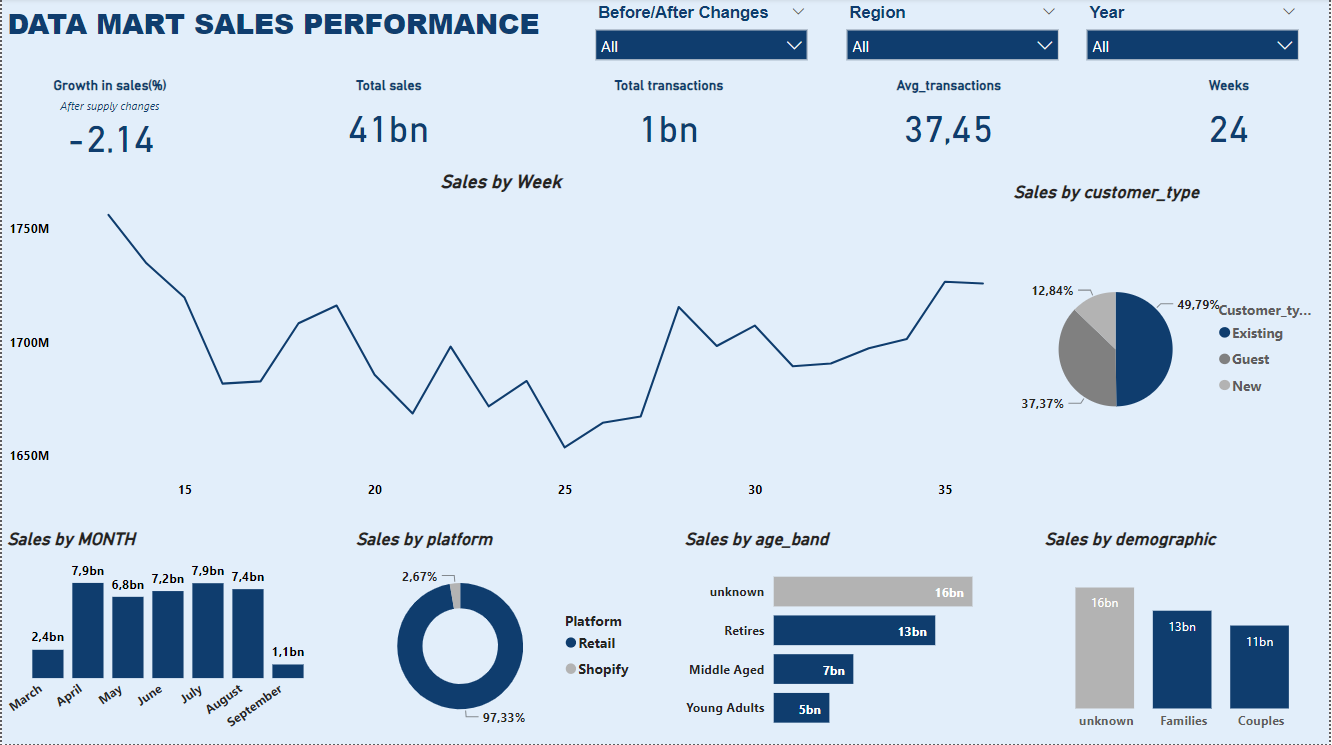

Layout of this report page (visuals, bound fields, positions):
{"tool":"powerbi","page":{"name":"Page 1","canvas":[1280,720],"ordinal":0},"visuals":[{"type":"textbox","box":[0,0,562,54.3],"z":0},{"type":"slicer","fields":{"Values":["whole_dataset.calendar_year"]},"box":[1036,0,225,71.2],"z":1000},{"type":"lineChart","title":"Sales by Week ","fields":{"Y":["Sum(whole_dataset.sales)"],"Category":["CALENDAR.WEEK NUMBER"]},"box":[1.2,166.4,960,326.8],"z":3000},{"type":"clusteredColumnChart","title":"Sales by MONTH","fields":{"Category":["CALENDAR.MONTH"],"Y":["Sum(whole_dataset.sales)"]},"box":[0,511.4,312.4,208.6],"z":4000},{"type":"donutChart","title":"Sales by platform","fields":{"Y":["Sum(whole_dataset.sales)"],"Category":["whole_dataset.platform"]},"box":[336.5,511.4,289.4,208.6],"z":5000},{"type":"barChart","title":"Sales by age_band","fields":{"Category":["whole_dataset.age_band"],"Y":["Sum(whole_dataset.sales)"]},"box":[653.7,511.4,330.5,208.6],"z":6000},{"type":"pieChart","title":"Sales by customer_type","fields":{"Category":["whole_dataset.customer_type"],"Y":["Sum(whole_dataset.sales)"]},"box":[970.9,177.3,308.7,303.9],"z":7000},{"type":"clusteredColumnChart","title":"Sales by demographic","fields":{"Category":["whole_dataset.demographic"],"Y":["Sum(whole_dataset.sales)"]},"box":[1001,511.4,278.6,203.8],"z":8000},{"type":"slicer","fields":{"Values":["whole_dataset.region"]},"box":[803.8,0,225,71.2],"z":9000},{"type":"slicer","fields":{"Values":["whole_dataset.impact"]},"box":[562,0,225.5,71.2],"z":10000},{"type":"card","title":"Avg_transactions","fields":{"Values":["All measure.AVG_TRANSACTION"]},"box":[835.9,77.2,155.6,77.2],"z":13000},{"type":"card","title":"Total transactions","fields":{"Values":["Sum(whole_dataset.transactions)"]},"box":[565.9,77.2,155.6,77.2],"z":19000},{"type":"card","title":"Total sales","fields":{"Values":["Sum(whole_dataset.sales)"]},"box":[295.9,77.2,155.6,77.2],"z":21000},{"type":"card","title":"Weeks","fields":{"Values":["Count(whole_dataset.week_number)"]},"box":[1105.9,77.2,155.6,77.2],"z":22500},{"type":"card","title":"Growth in sales(%)","fields":{"Values":["whole_dataset.growth"]},"box":[26.5,77.2,155,77],"z":23000}]}

Visuals, with their boxes in screenshot pixels (x1, y1, x2, y2), scaled from the page's 1280x720 canvas onto the 1332x745 screenshot:
textbox: [0,0,585,56]
slicer - whole_dataset.calendar_year: [1078,0,1312,74]
"Sales by Week " lineChart: [1,172,1000,510]
"Sales by MONTH" clusteredColumnChart: [0,529,325,744]
"Sales by platform" donutChart: [350,529,651,744]
"Sales by age_band" barChart: [680,529,1024,744]
"Sales by customer_type" pieChart: [1010,183,1331,498]
"Sales by demographic" clusteredColumnChart: [1042,529,1331,740]
slicer - whole_dataset.region: [836,0,1071,74]
slicer - whole_dataset.impact: [585,0,819,74]
"Avg_transactions" card: [870,80,1032,160]
"Total transactions" card: [589,80,751,160]
"Total sales" card: [308,80,470,160]
"Weeks" card: [1151,80,1313,160]
"Growth in sales(%)" card: [28,80,189,160]
